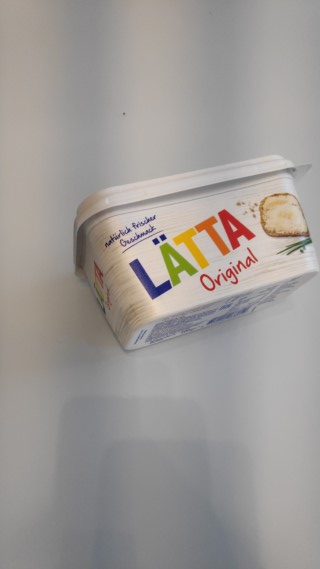laetta: (72, 153, 320, 351)
